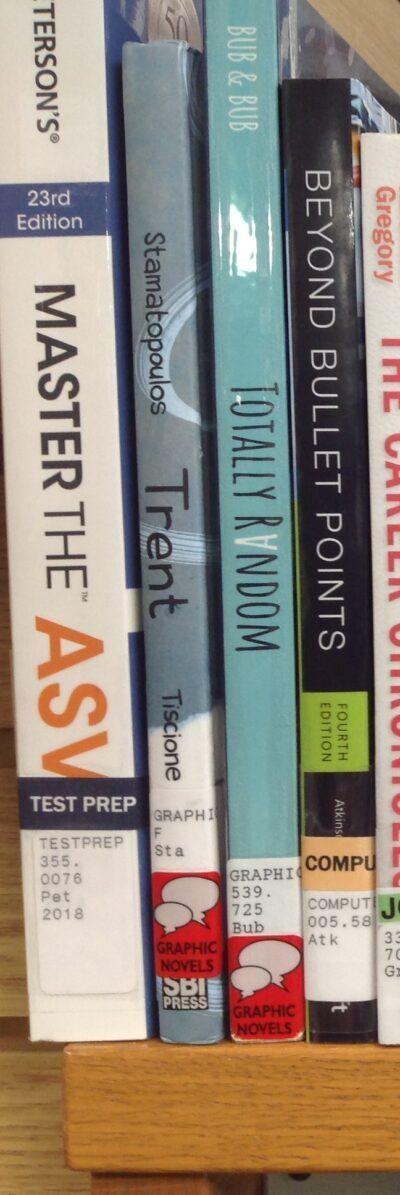call_number: (33, 831, 136, 995), (305, 892, 373, 1003), (231, 858, 298, 933), (152, 791, 216, 868)
